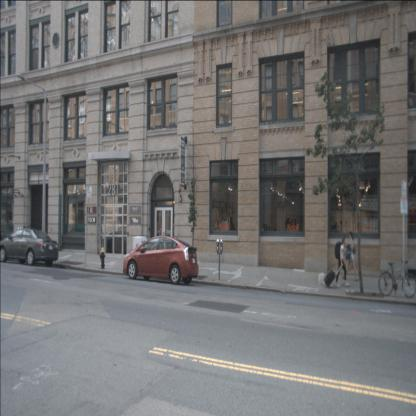human-pedestrian-adult: (324, 236, 350, 288), (342, 231, 358, 282)
vehicle-bicycle: (378, 259, 416, 299)
vehicle-car: (123, 235, 199, 285), (0, 227, 59, 268), (98, 230, 134, 255)
